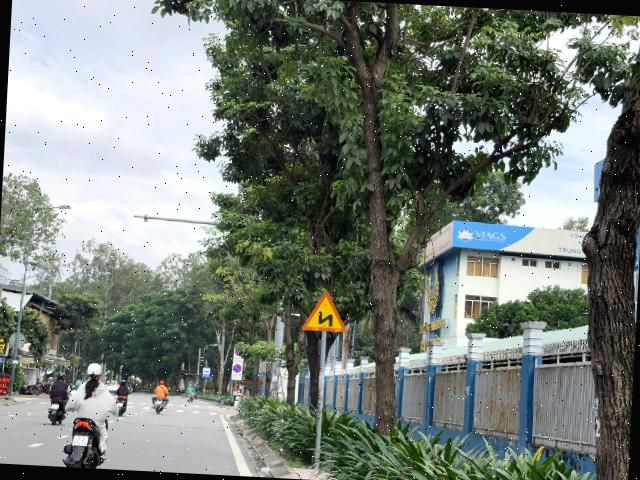nhieu-cho-ngoat-nguy-hiem-lien-tiep: (302, 290, 349, 332)
